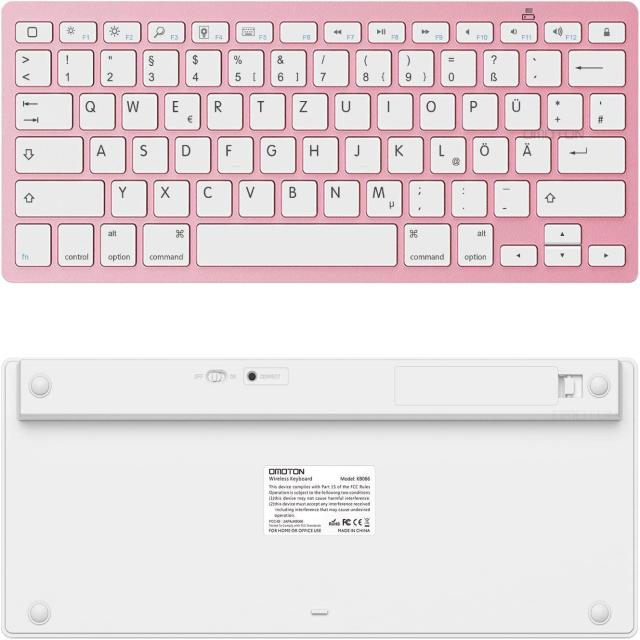0: (438, 46, 476, 86)
1: (55, 46, 93, 85)
2: (98, 46, 136, 85)
3: (140, 46, 178, 85)
4: (183, 46, 220, 85)
5: (224, 46, 263, 85)
6: (268, 46, 306, 85)
7: (310, 47, 348, 86)
8: (352, 47, 391, 86)
9: (395, 47, 433, 85)
a: (87, 133, 125, 172)
accent: (523, 46, 560, 85)
ae: (512, 134, 550, 173)
alt-left: (97, 219, 137, 266)
altgr-right: (455, 220, 495, 266)
b: (277, 177, 316, 216)
c: (193, 177, 231, 216)
comma: (406, 177, 444, 215)
d: (171, 133, 210, 173)
del: (566, 46, 625, 85)
e: (161, 90, 200, 129)
enter: (554, 133, 626, 172)
f: (214, 134, 252, 172)
g: (256, 133, 295, 173)
h: (299, 134, 337, 172)
hash: (587, 90, 625, 129)
i: (374, 90, 412, 128)
j: (343, 133, 380, 172)
k: (385, 133, 422, 172)
keyboard: (2, 3, 636, 283)
l: (428, 134, 465, 173)
less: (12, 46, 50, 85)
m: (362, 177, 401, 216)
minus: (491, 177, 529, 216)
n: (321, 177, 358, 215)
o: (416, 90, 454, 128)
oe: (469, 134, 507, 173)
p: (458, 90, 497, 128)
plus: (545, 90, 582, 128)
point: (449, 177, 487, 215)
q: (76, 90, 114, 128)
r: (204, 90, 242, 128)
s: (129, 133, 167, 172)
shift-left: (12, 176, 106, 216)
shift-lock: (12, 133, 83, 172)
shift-right: (533, 176, 626, 216)
space: (193, 220, 398, 266)
ss: (480, 46, 518, 86)
strg-left: (55, 220, 95, 266)
t: (247, 90, 284, 128)
tab: (12, 89, 72, 128)
u: (332, 90, 370, 129)
ue: (501, 90, 540, 129)
v: (236, 177, 274, 216)
w: (118, 90, 156, 129)
x: (151, 177, 189, 215)
y: (109, 177, 147, 215)
z: (289, 90, 327, 129)
